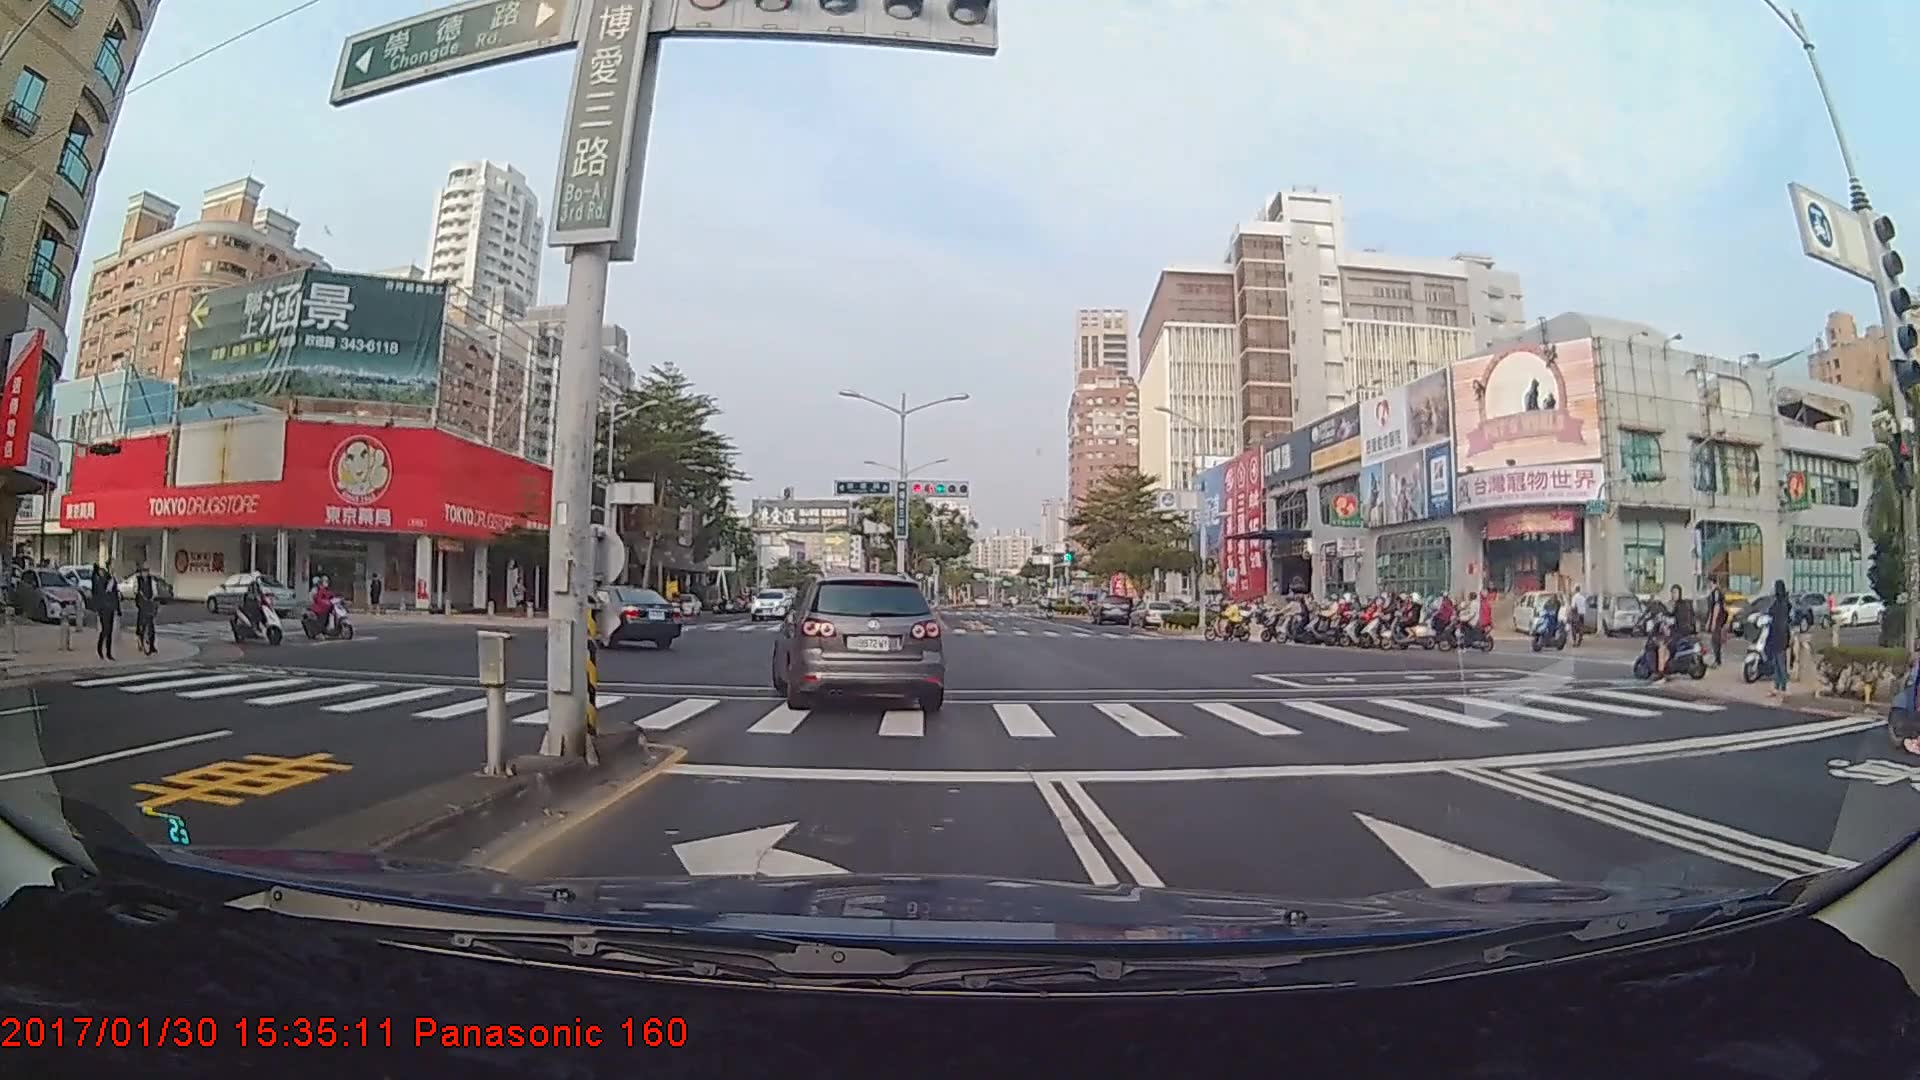pedestrian: (1763, 573, 1802, 702), (95, 560, 123, 665), (1706, 576, 1733, 671)
rider: (1633, 587, 1718, 684), (1735, 582, 1803, 689), (225, 569, 296, 652), (299, 577, 362, 642), (1439, 592, 1496, 659), (128, 563, 166, 661), (1526, 596, 1577, 652), (1258, 594, 1312, 643), (1396, 593, 1443, 651), (1205, 600, 1260, 643), (1366, 594, 1413, 644), (1332, 598, 1377, 647), (1352, 600, 1393, 646)
vehicle: (769, 570, 948, 710), (556, 586, 679, 651), (202, 573, 292, 615), (1089, 593, 1131, 626)
